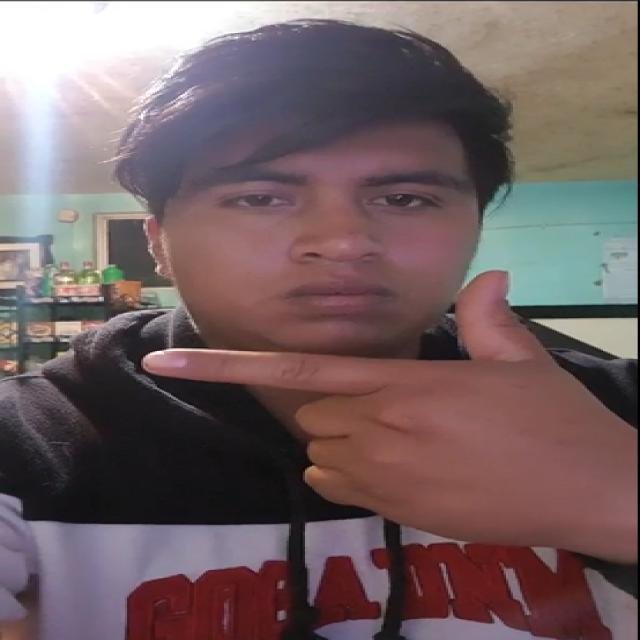G: (136, 260, 636, 552)
